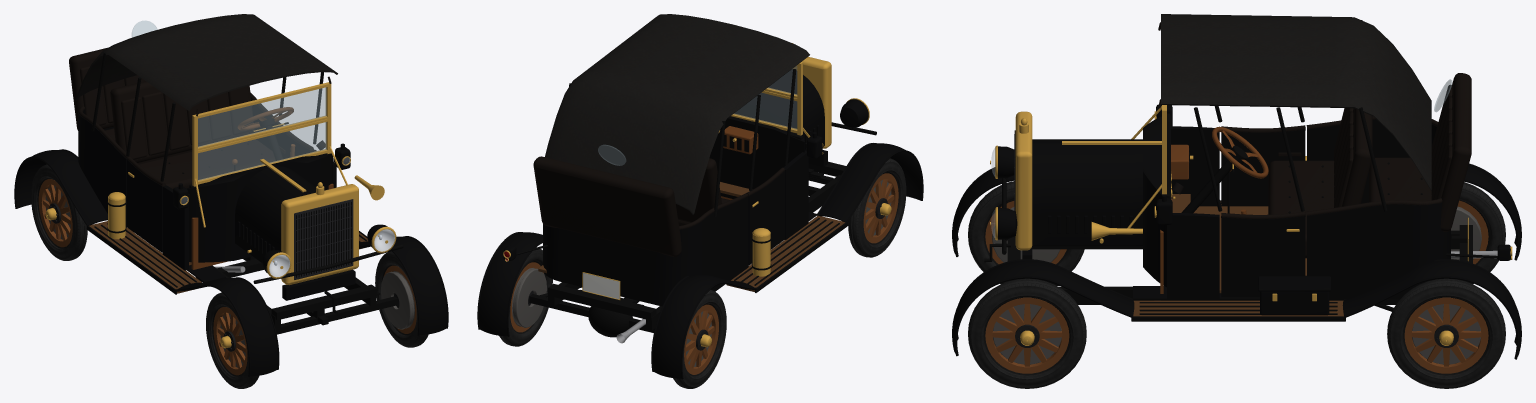
The model's file is runabout_t_lod1.glb.
3 views of the same model, side by side, from view 1: azimuth 30°, elevation 25°; view 2: azimuth 150°, elevation 25°; view 3: azimuth 270°, elevation 25° (orthographic). The views are drawn at different scales.
Parts seen in each view (by area): view 1: runabout_t, top, windscreen_upper, hood_R, wheel_RR, wheel_FR, wheel_FL, door_R, steering_wheel, door_L, hood_L; view 2: runabout_t, top, wheel_FR, wheel_RR, wheel_RL, door_R, hood_R, windscreen_upper; view 3: runabout_t, top, hood_L, wheel_RL, wheel_FL, door_L, door_R, wheel_FR, wheel_RR, steering_wheel.
Boxes of the visible parts, x1,y1,x2,y2 form: runabout_t: (14,47,448,376); top: (75,14,337,181); windscreen_upper: (196,83,327,150); hood_R: (235,167,307,262); wheel_RR: (31,164,87,260); wheel_FR: (206,292,259,388); wheel_FL: (375,251,428,347); door_R: (127,156,166,252); steering_wheel: (237,107,293,130); door_L: (274,121,313,158); hood_L: (273,165,315,194); runabout_t: (477,43,923,379); top: (545,14,809,216); wheel_FR: (848,158,906,257); wheel_RR: (673,289,726,388); wheel_RL: (499,249,552,346); door_R: (746,167,785,265); hood_R: (745,69,824,151); windscreen_upper: (764,65,797,98); runabout_t: (952,73,1521,359); top: (1158,14,1452,211); hood_L: (1032,143,1146,246); wheel_RL: (1387,278,1505,388); wheel_FL: (968,278,1086,388); door_L: (1221,212,1305,297); door_R: (1221,125,1305,206); wheel_FR: (968,181,1084,283); wheel_RR: (1451,182,1505,283); steering_wheel: (1212,126,1268,178).
Size of the model in its own units: 1.67 by 1.95 by 3.45.
32 materials, 5 textured.
